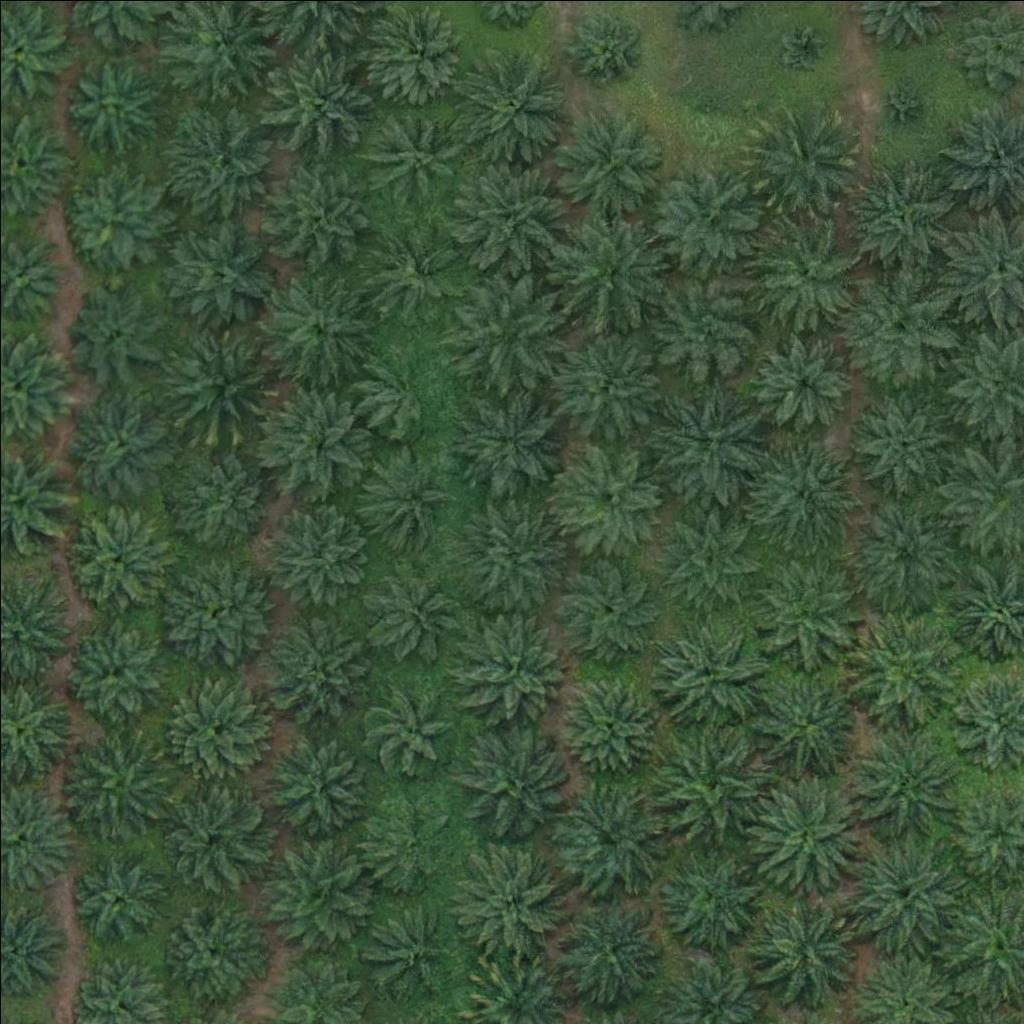Kelapa_Sawit: (845, 728, 958, 842), (747, 552, 860, 666), (152, 892, 265, 1006), (55, 728, 168, 842), (455, 57, 568, 171), (552, 326, 665, 440), (555, 216, 668, 330), (654, 497, 767, 611), (652, 387, 765, 501), (744, 432, 857, 546), (844, 836, 957, 949), (750, 775, 863, 888), (748, 666, 861, 779), (454, 845, 567, 958), (459, 728, 572, 841), (455, 606, 568, 719), (257, 498, 370, 611), (160, 218, 273, 331), (164, 108, 277, 221), (255, 384, 368, 497), (264, 271, 377, 384), (258, 154, 371, 267), (550, 107, 663, 220), (648, 267, 761, 380), (845, 603, 957, 717), (259, 42, 371, 156), (452, 276, 564, 390), (450, 159, 562, 273), (747, 106, 859, 219), (849, 495, 961, 608), (748, 895, 860, 1008), (658, 842, 770, 955), (659, 726, 771, 839), (651, 612, 763, 725), (556, 779, 668, 892), (552, 555, 664, 668), (453, 498, 565, 611), (255, 835, 367, 948), (257, 727, 369, 840), (153, 778, 265, 891), (154, 554, 266, 667), (163, 438, 275, 551), (164, 323, 276, 436), (454, 383, 566, 496), (554, 440, 666, 553), (644, 160, 756, 273), (749, 216, 861, 329), (849, 270, 961, 383), (845, 163, 957, 276), (562, 899, 662, 1000), (559, 676, 659, 777), (261, 615, 361, 716), (163, 679, 263, 780), (61, 622, 161, 723), (68, 507, 168, 608), (71, 395, 171, 496), (62, 279, 162, 380), (61, 169, 161, 270), (64, 55, 164, 156), (356, 449, 456, 550), (752, 331, 852, 432), (850, 390, 950, 491), (63, 846, 163, 946), (364, 223, 464, 323), (360, 104, 460, 204), (364, 903, 452, 991), (359, 345, 447, 433), (361, 799, 448, 887), (366, 685, 453, 773), (365, 569, 452, 657), (873, 78, 923, 129), (779, 22, 829, 73), (682, 86, 732, 136)
